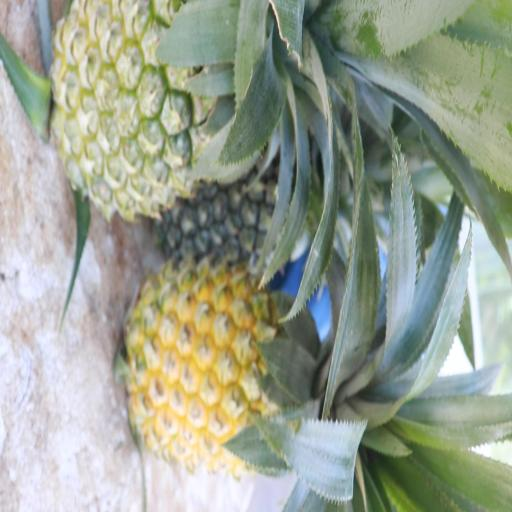------------------------------: (54, 0, 282, 205)
Pineapple - v8 v1: (126, 263, 339, 469)
